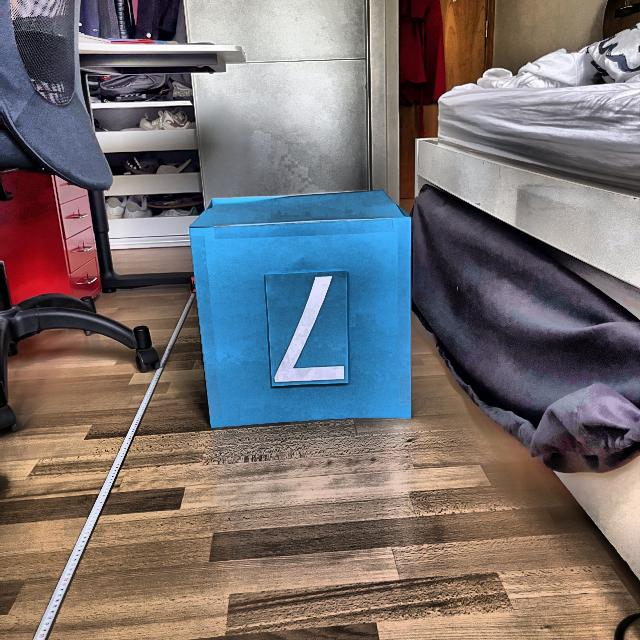blue box: (187, 185, 419, 424)
seven: (269, 269, 351, 389)
